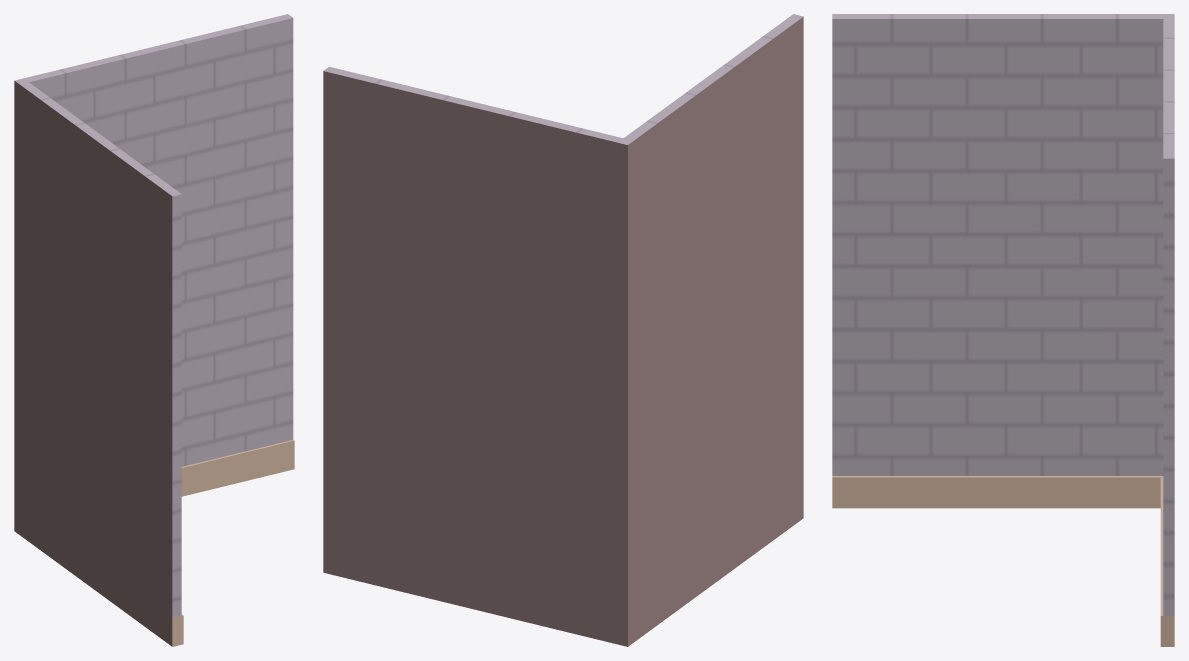
Rendered from SM_L_Wall_1_09.fbx.
3 views of the same model, side by side, from view 1: azimuth 30°, elevation 25°; view 2: azimuth 150°, elevation 25°; view 3: azimuth 270°, elevation 25° (orthographic). The views are drawn at different scales.
Parts seen in each view (by area): view 1: SM_L_Wall_1_09; view 2: SM_L_Wall_1_09; view 3: SM_L_Wall_1_09.
Part boxes in pixels (x1,y1,x2,y2): SM_L_Wall_1_09: (14,14,294,646); SM_L_Wall_1_09: (323,14,803,646); SM_L_Wall_1_09: (832,14,1174,646).
Bounding box in the file's own units: 188 × 295 × 188.
